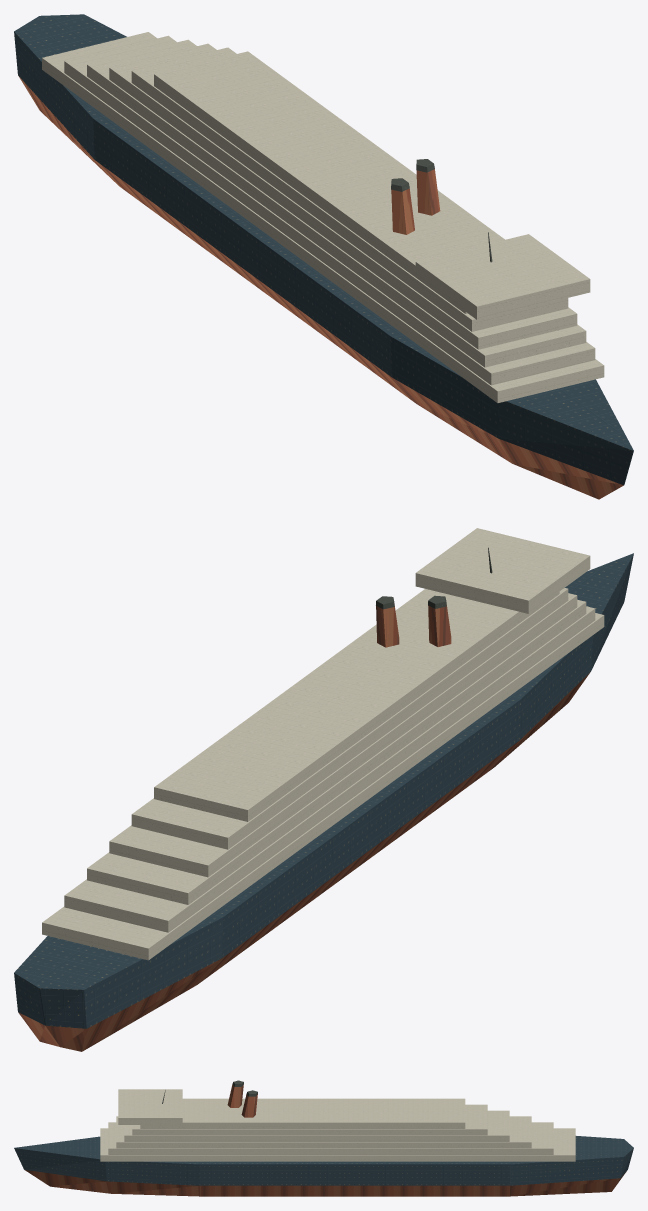
Rendered from copperwake-far.glb.
3 views of the same model, one above another, from view 1: azimuth 30°, elevation 25°; view 2: azimuth 150°, elevation 25°; view 3: azimuth 270°, elevation 25° (orthographic). The views are drawn at different scales.
Parts seen in each view (by area): view 1: superstructure, hull, funnels_and_rigging; view 2: superstructure, hull, funnels_and_rigging; view 3: superstructure, hull, funnels_and_rigging.
Boxes of the visible parts, box(x1,y1,x2,y2) form: superstructure: box(42, 32, 604, 402); hull: box(14, 14, 633, 499); funnels_and_rigging: box(391, 159, 492, 262); superstructure: box(42, 528, 604, 960); hull: box(14, 553, 633, 1051); funnels_and_rigging: box(376, 547, 492, 647); superstructure: box(100, 1089, 575, 1161); hull: box(14, 1136, 633, 1196); funnels_and_rigging: box(162, 1080, 257, 1117).
Bounding box in the file's own units: 39 × 54.54 × 309.
Materials: 4 (4 with a texture image).
